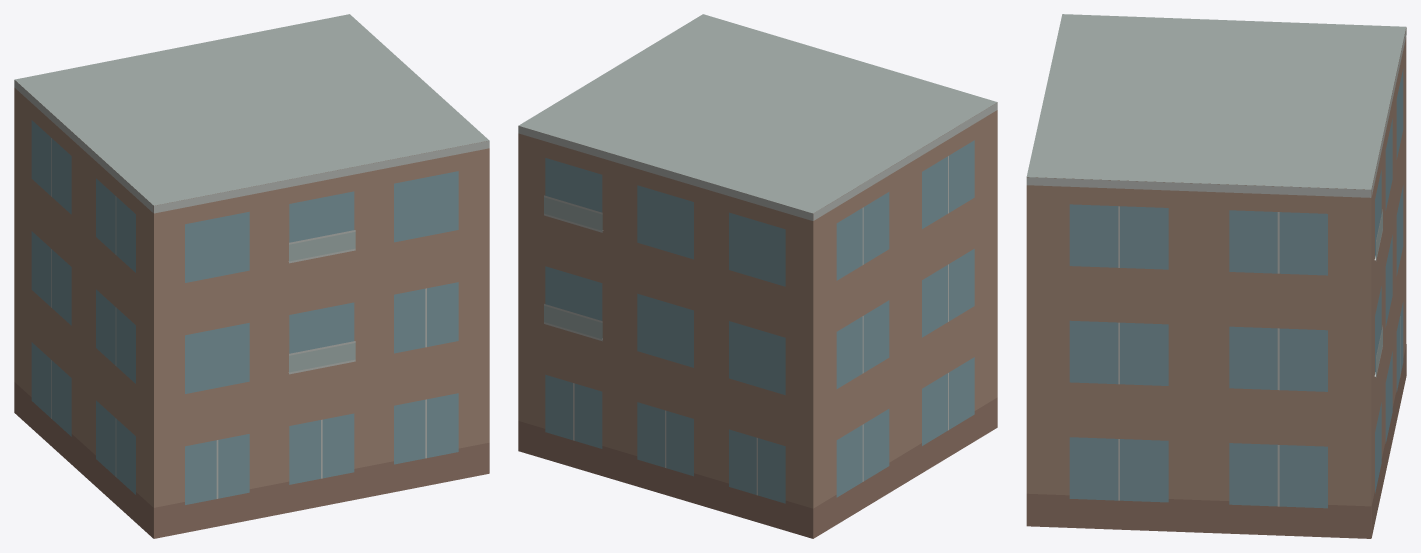
Rendered from survey-upis-32672524.glb.
3 renders of one model, left to right at view 1: azimuth 30°, elevation 25°; view 2: azimuth 150°, elevation 25°; view 3: azimuth 270°, elevation 25°, orthographic. The views are drawn at different scales.
Visible parts, largest first — view 1: survey-upis-32672524.tmp; view 2: survey-upis-32672524.tmp; view 3: survey-upis-32672524.tmp.
Boxes of the visible parts, bbox=[...] form: survey-upis-32672524.tmp: bbox=[14, 14, 489, 538]; survey-upis-32672524.tmp: bbox=[518, 14, 997, 538]; survey-upis-32672524.tmp: bbox=[1026, 14, 1406, 538].
Bounding box in the file's own units: 11.23 × 10.4 × 10.26.
